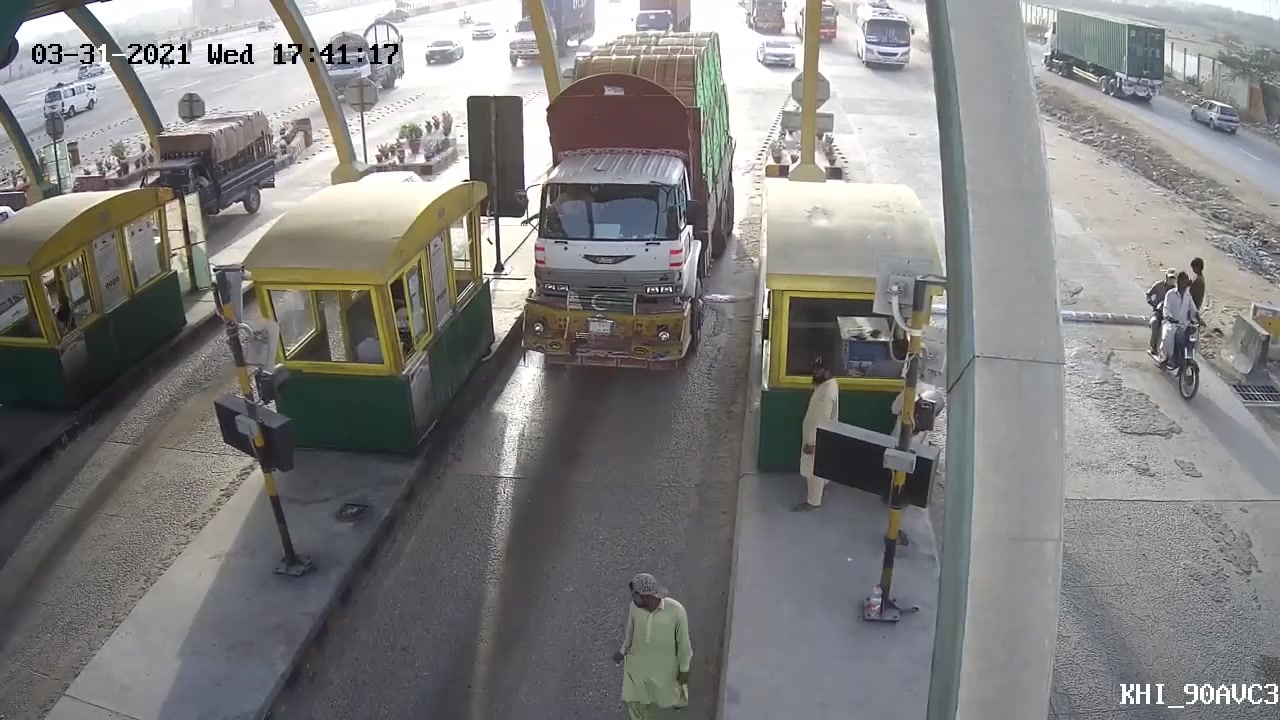F5: (496, 51, 737, 373)
